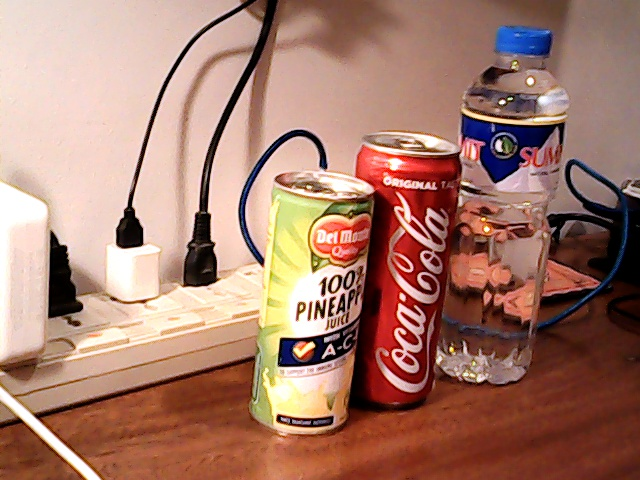Cola: (361, 136, 452, 404)
Pine Juice: (242, 162, 371, 439)
Summit Water: (456, 23, 573, 388)
